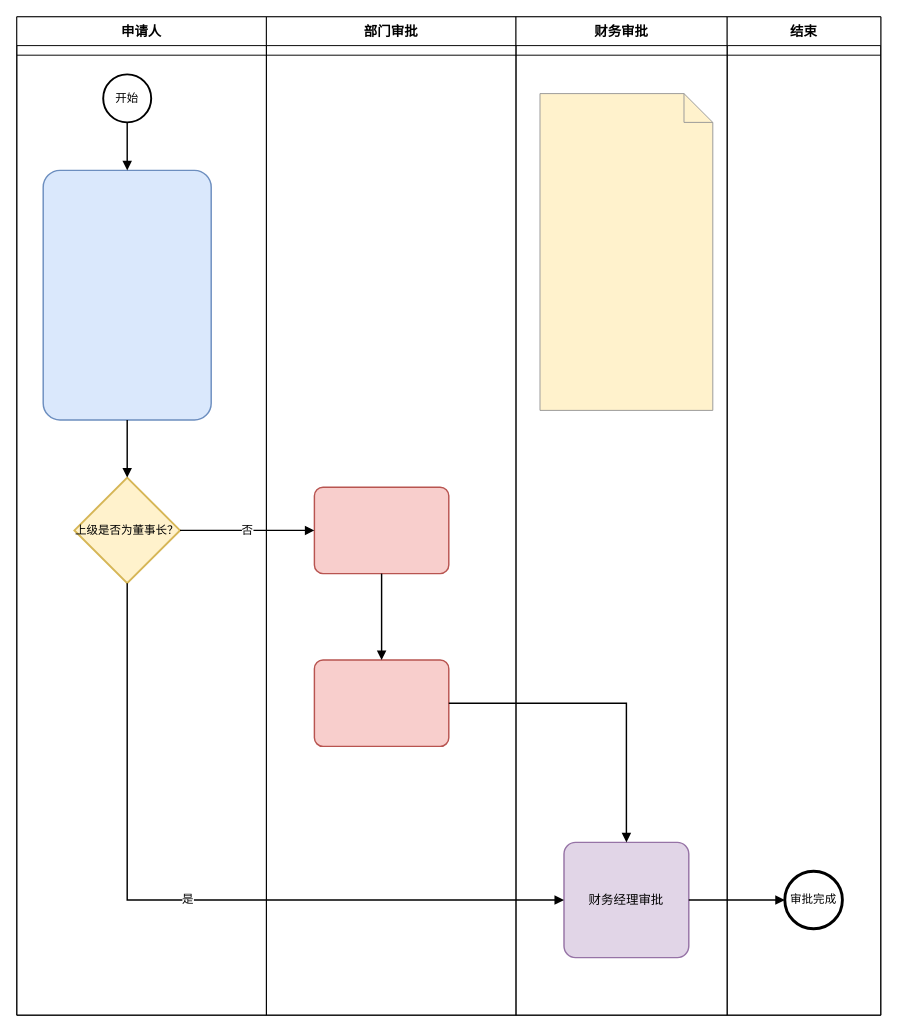
This 898x1032 diagram has some shape labels left out. Here are the shapes that lost their labels. From the top down, the centre of each, then its label:
At point (626, 251): "此处填写提示或备注".
At point (126, 294): "申请表单的内容".
At point (381, 530): "本部经理审批".
At point (381, 703): "经理上级审批".
